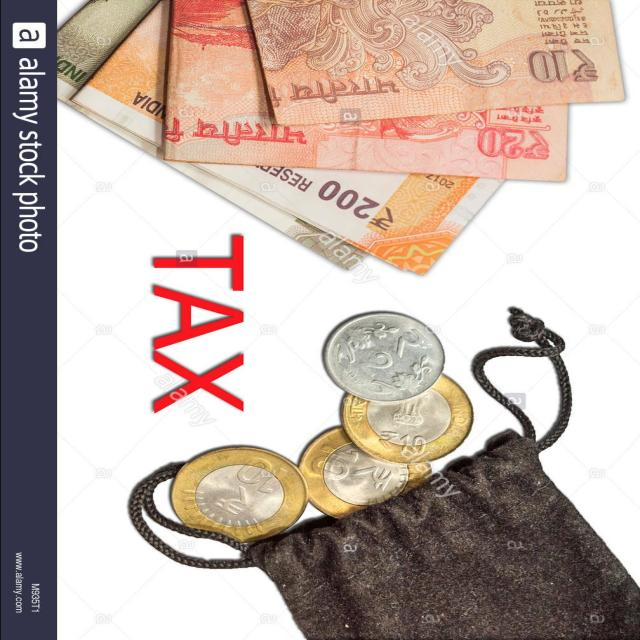10IndianRupees: (255, 1, 629, 113)
